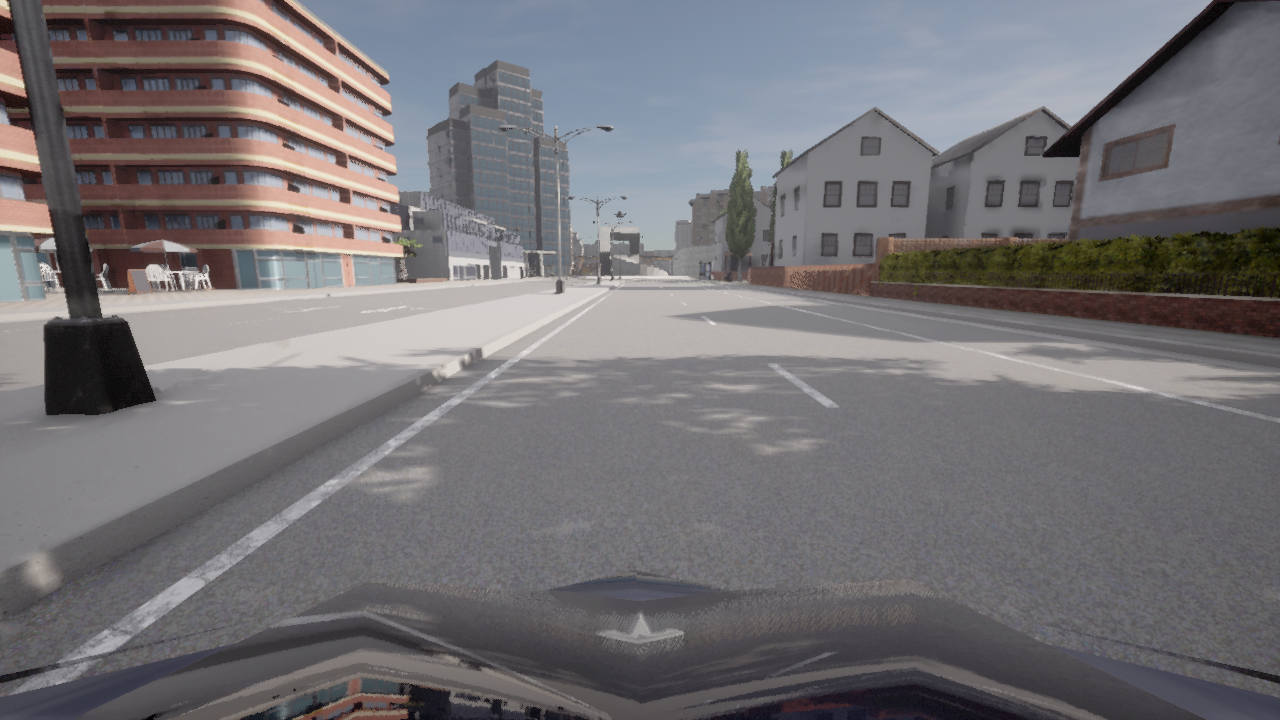cyclist: (0, 569, 1279, 719)
